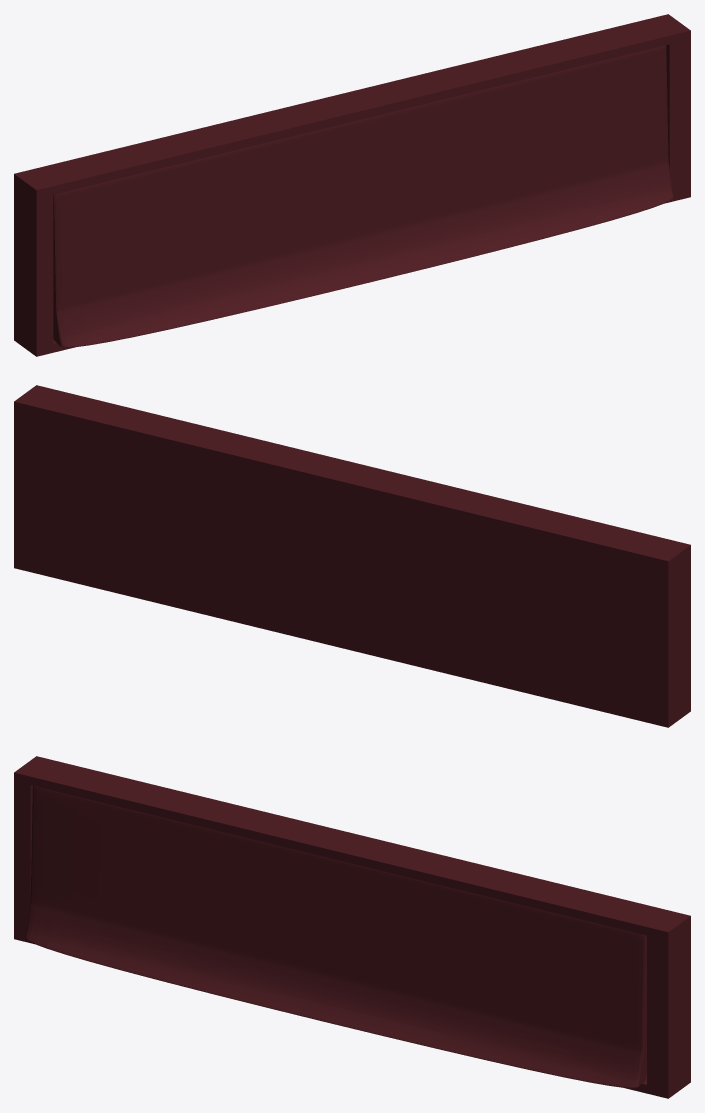
File: brievenbus2.fbx
The picture shows the model from 3 angles, top to bottom: view 1: azimuth 30°, elevation 25°; view 2: azimuth 150°, elevation 25°; view 3: azimuth 330°, elevation 25°; orthographic projection.
Parts seen in each view (by area): view 1: Cube.005, Cube.004; view 2: Cube.004; view 3: Cube.005, Cube.004.
Boxes of the visible parts, bbox=[...] form: Cube.005: bbox=[53, 45, 673, 347]; Cube.004: bbox=[14, 14, 690, 356]; Cube.004: bbox=[14, 385, 690, 727]; Cube.005: bbox=[25, 786, 646, 1088]; Cube.004: bbox=[14, 756, 690, 1098].
Size of the model in its own units: 33.68 by 8.19 by 3.22.
